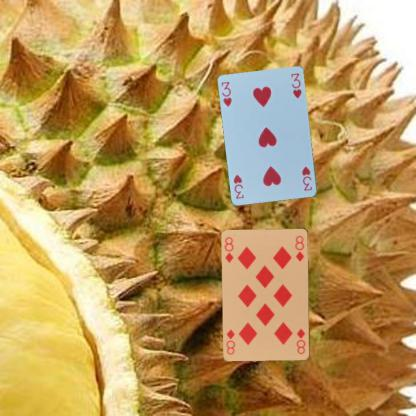3h: (219, 79, 233, 108), (299, 164, 313, 192)
8d: (294, 326, 307, 355), (223, 235, 234, 264)
